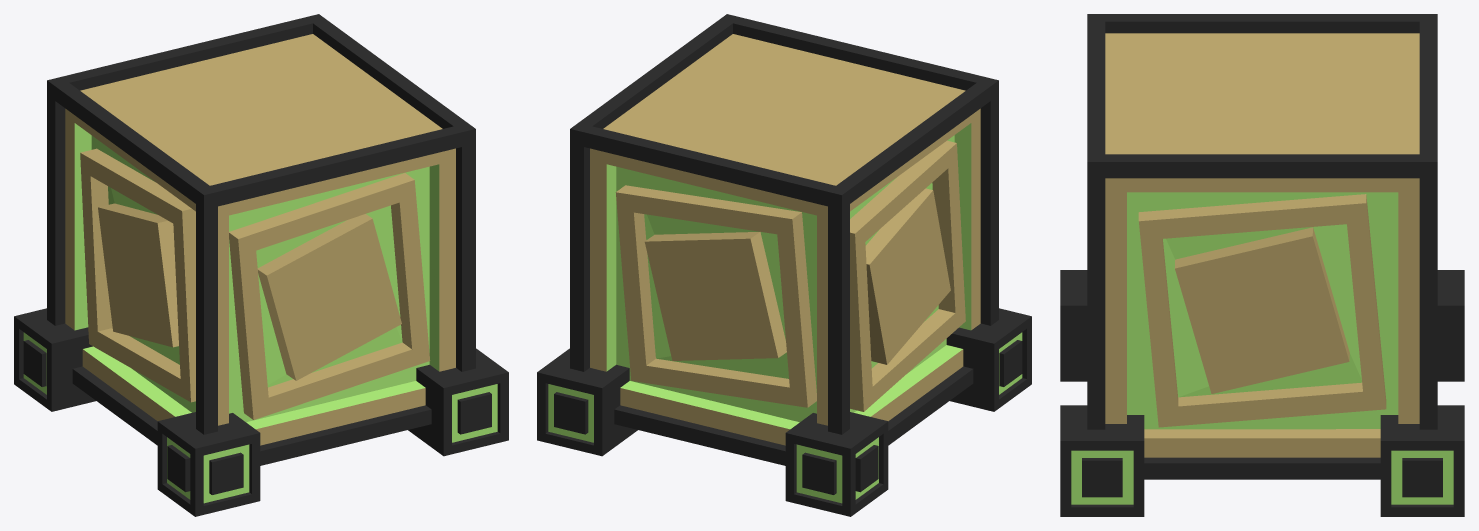
The model's file is BasicBlock.fbx.
3 views of the same model, side by side, from view 1: azimuth 30°, elevation 25°; view 2: azimuth 150°, elevation 25°; view 3: azimuth 270°, elevation 25° (orthographic). The views are drawn at different scales.
Parts seen in each view (by area): view 1: Mesh; view 2: Mesh; view 3: Mesh.
Part boxes in pixels (x1,y1,x2,y2): Mesh: (14, 14, 508, 516); Mesh: (537, 14, 1031, 516); Mesh: (1060, 14, 1464, 516).
Size of the model in its own units: 0.7928 by 0.7434 by 0.7928.
